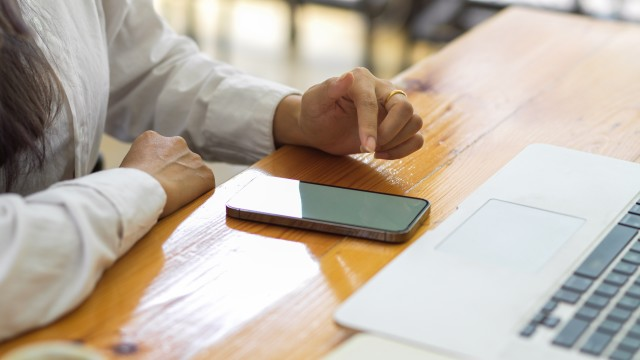Cell Phone: (227, 176, 432, 244)
